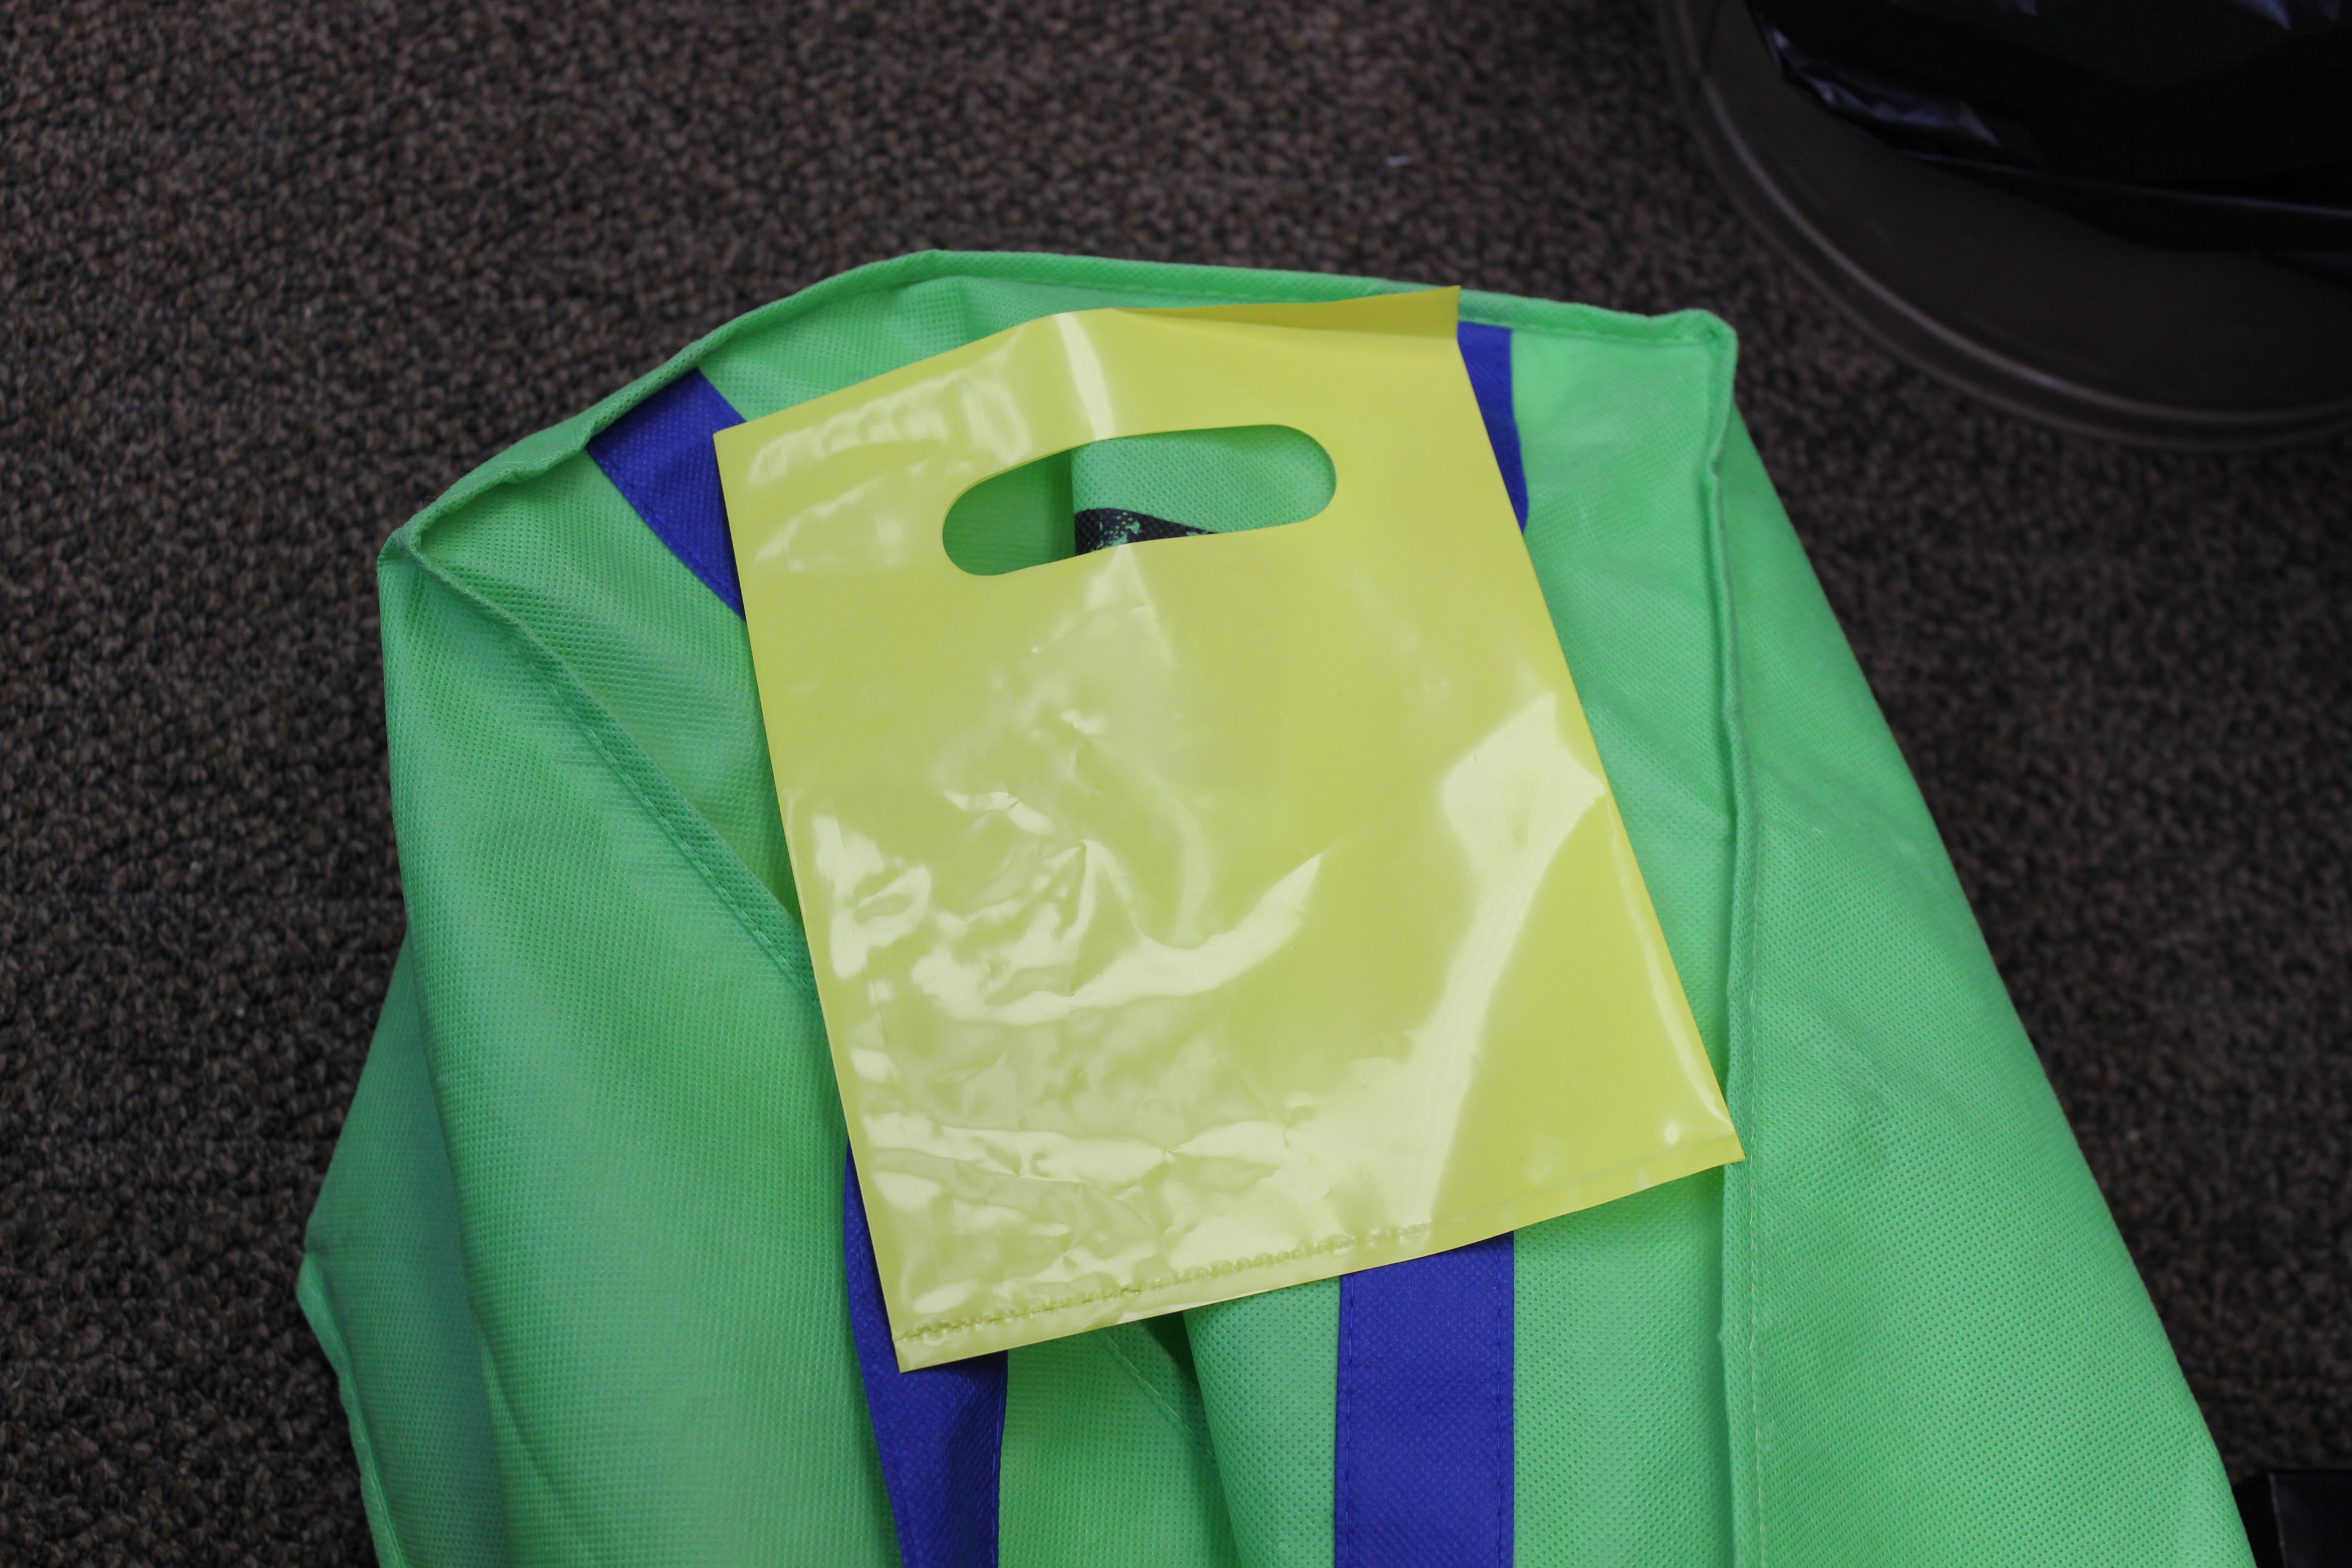yellowBag: (665, 222, 1804, 1416)
